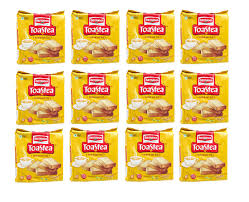Britania-toast-small: (67, 7, 124, 65), (179, 8, 233, 66), (125, 5, 176, 66), (126, 66, 177, 127), (122, 126, 177, 182), (177, 71, 231, 126), (179, 127, 233, 181), (69, 126, 118, 183), (15, 10, 66, 64), (17, 72, 65, 126), (71, 71, 118, 126), (16, 130, 61, 183)
